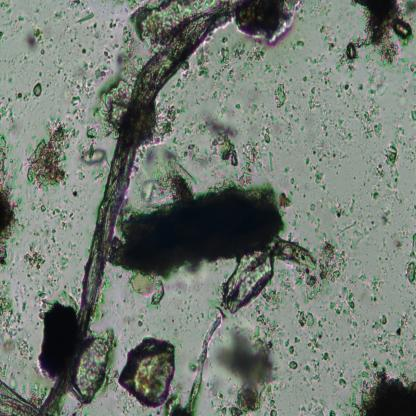Background material: (200, 318, 287, 414), (219, 237, 316, 314), (340, 0, 416, 79), (124, 0, 215, 64), (201, 120, 277, 190), (299, 83, 351, 185), (178, 39, 266, 92), (119, 333, 179, 410), (66, 36, 122, 116), (20, 120, 72, 195), (285, 310, 333, 386), (357, 354, 416, 414), (37, 296, 77, 379), (236, 1, 306, 48), (0, 134, 24, 268), (143, 145, 195, 206), (337, 77, 385, 143), (371, 298, 416, 360), (0, 278, 33, 362), (69, 336, 110, 403), (341, 207, 393, 254), (23, 238, 65, 296), (314, 234, 352, 296), (370, 138, 404, 207), (307, 18, 340, 87), (144, 99, 182, 147), (98, 78, 131, 132), (75, 125, 108, 169), (270, 77, 298, 128), (329, 284, 360, 330), (32, 200, 74, 233), (128, 273, 165, 307), (174, 287, 202, 329), (20, 22, 48, 63), (232, 90, 266, 123), (350, 273, 390, 300), (66, 1, 103, 30), (300, 390, 340, 415), (277, 178, 306, 209), (0, 91, 28, 122), (294, 206, 326, 233), (178, 112, 202, 148), (0, 0, 24, 35), (326, 328, 356, 353), (404, 229, 416, 290), (394, 120, 412, 152), (328, 199, 354, 215), (394, 226, 406, 260), (332, 365, 347, 390), (213, 96, 233, 112), (47, 5, 65, 22), (48, 50, 60, 75), (134, 309, 152, 325), (31, 81, 44, 101), (379, 256, 396, 270), (268, 63, 287, 74), (294, 42, 307, 54), (282, 164, 296, 174), (407, 106, 414, 122), (191, 357, 198, 372), (111, 20, 120, 31)
Cellulose filter fibre: (0, 0, 237, 414)
Fragment: (114, 188, 283, 274)
